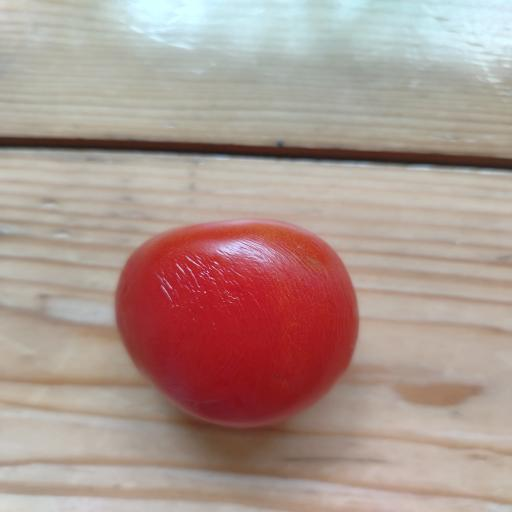spoiled: (116, 220, 358, 427)
